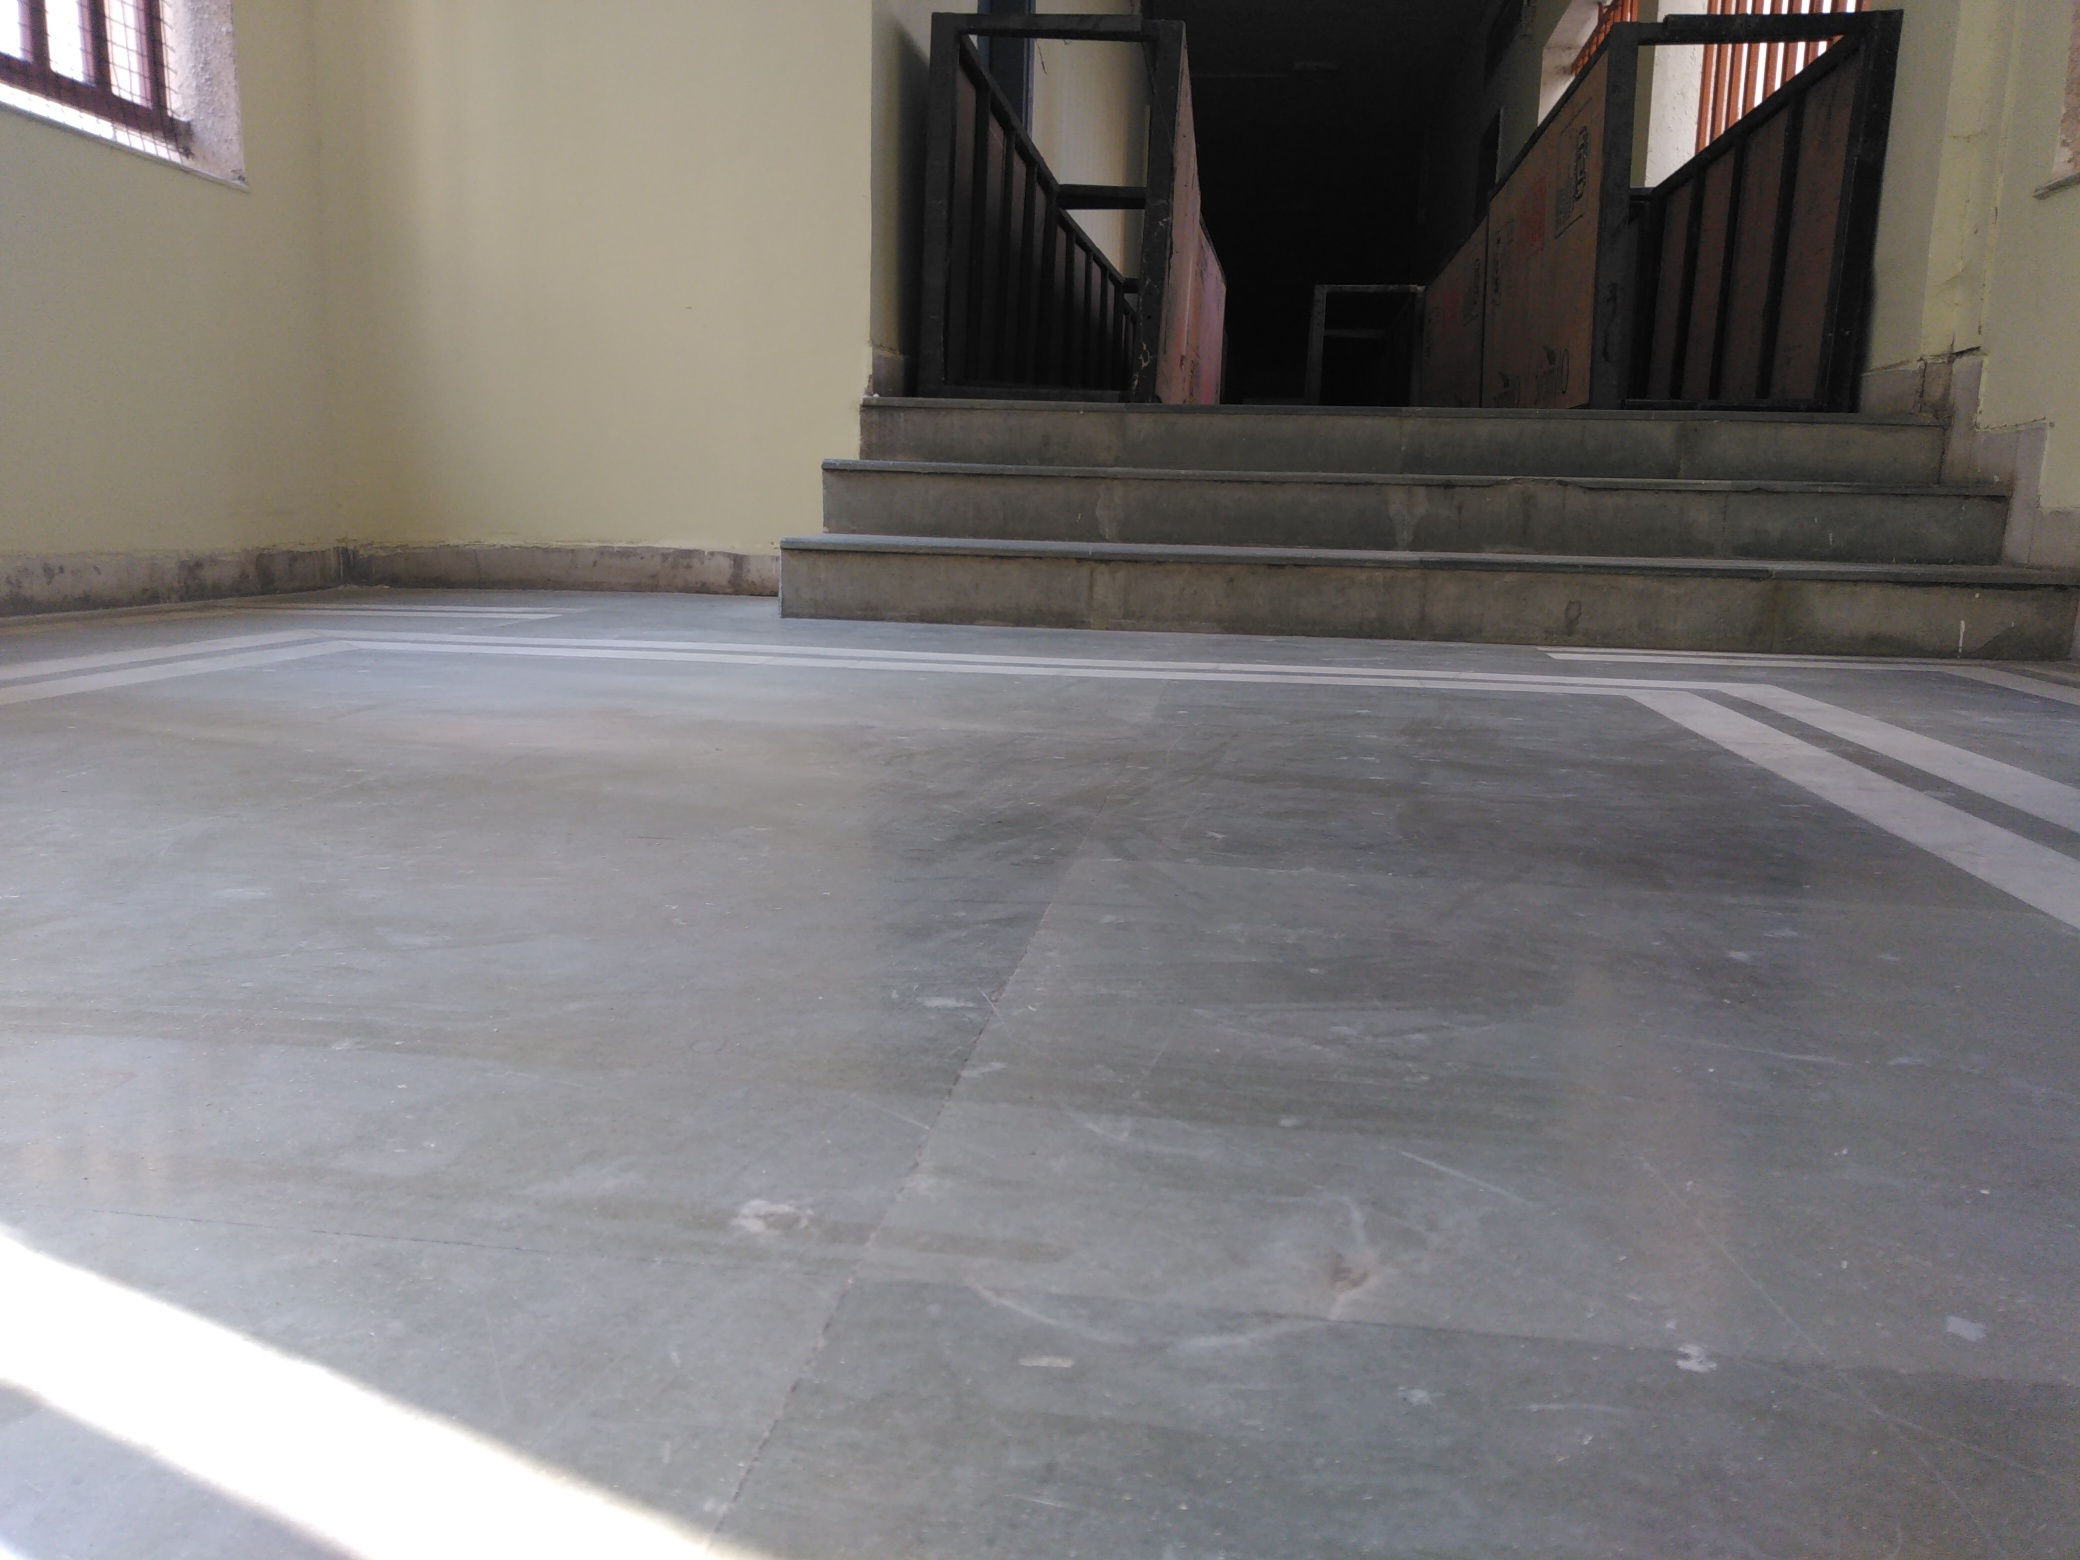stairs_up: (794, 388, 2028, 655)
